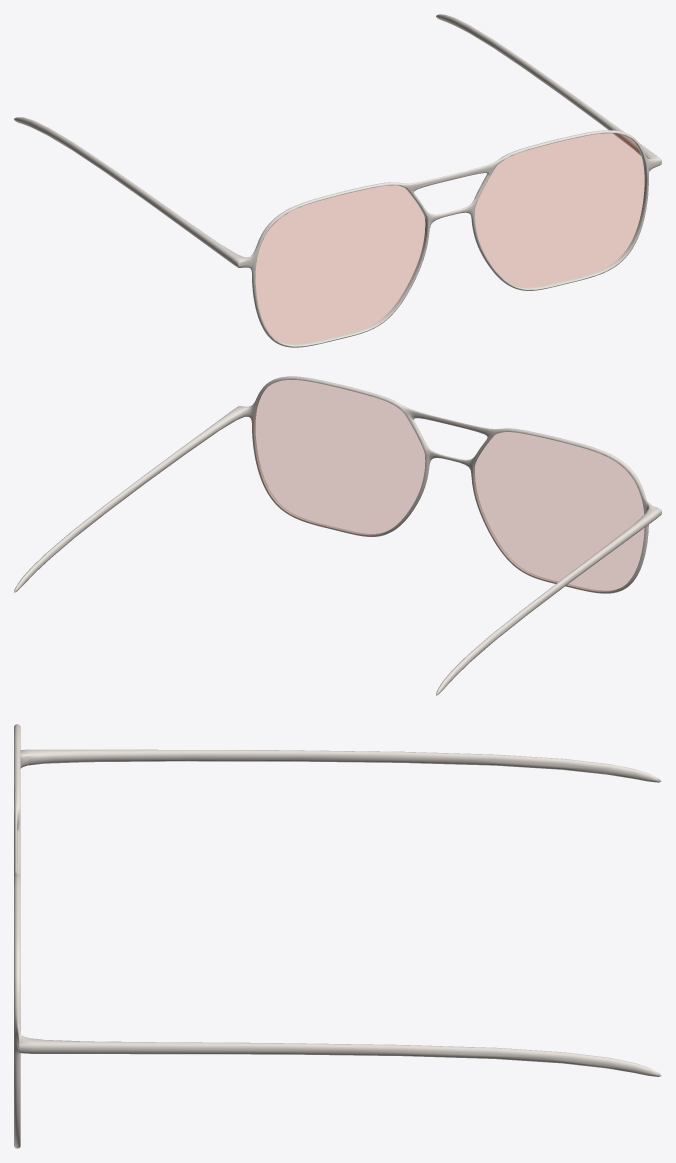
Rendered from eyewear-glasses-002-2a432aff.glb.
3 renders of one model, top to bottom at view 1: azimuth 30°, elevation 25°; view 2: azimuth 150°, elevation 25°; view 3: azimuth 270°, elevation 25°, orthographic. The views are drawn at different scales.
Visible parts, largest first — view 1: Geo_Male_White_Glasses.004; view 2: Geo_Male_White_Glasses.004; view 3: Geo_Male_White_Glasses.004.
Part boxes in pixels (x1,y1,x2,y2): Geo_Male_White_Glasses.004: (14,14,661,347); Geo_Male_White_Glasses.004: (14,376,661,695); Geo_Male_White_Glasses.004: (14,724,661,1148).
Bounding box in the file's own units: 1.48 × 0.4877 × 1.37.
